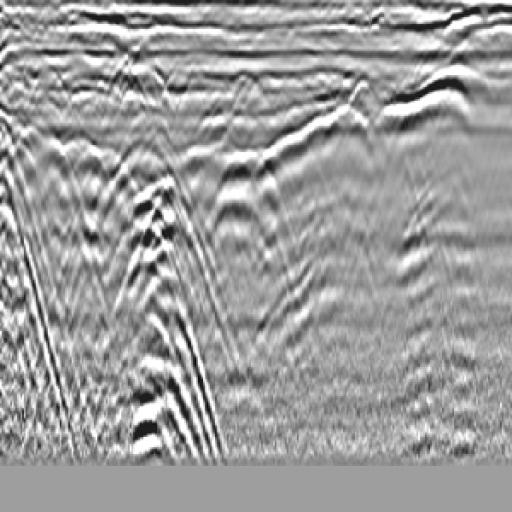metalic: (169, 83, 306, 260)
